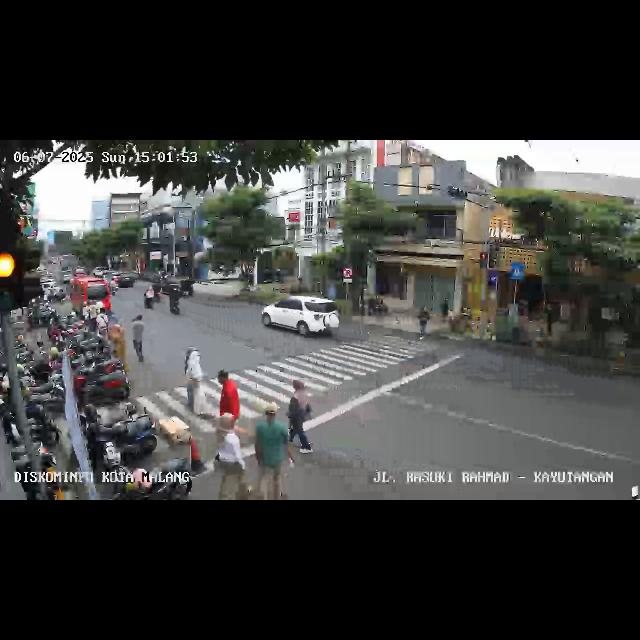car: (262, 294, 342, 342), (68, 276, 112, 316), (165, 278, 189, 310), (114, 274, 138, 292)
motorcycle: (168, 286, 182, 316), (143, 284, 155, 310)
person: (255, 402, 291, 500), (214, 414, 250, 498), (287, 380, 313, 454), (215, 368, 239, 436), (182, 349, 204, 415), (131, 309, 147, 366), (415, 307, 431, 343)
